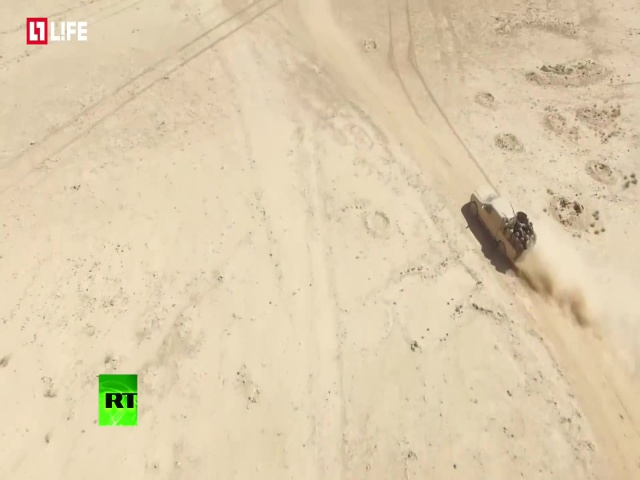vehicle: (471, 188, 539, 267)
